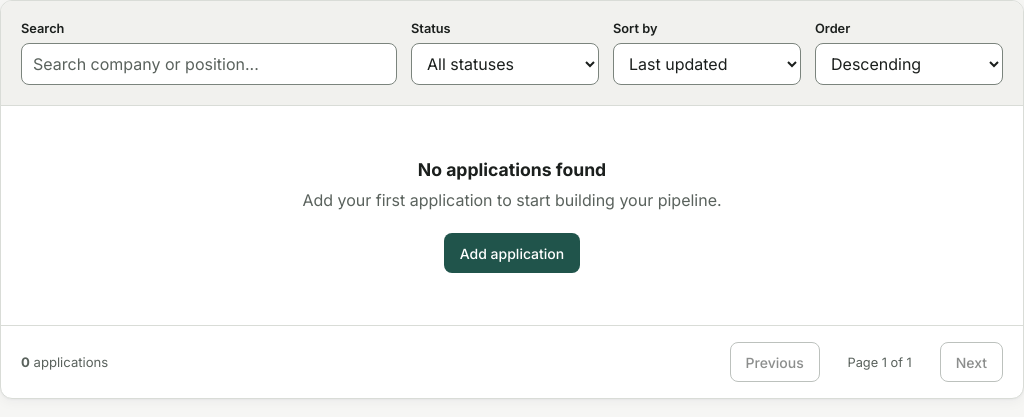
it: ApplicationsList preferences › preserves status, sort, and order selection behavior in light theme
Check: the heading "No applications found" is shown, box [418, 159, 606, 180]
Select "Rejected" in the dropdown labelled "Status" at (505, 64), box [411, 43, 599, 85]
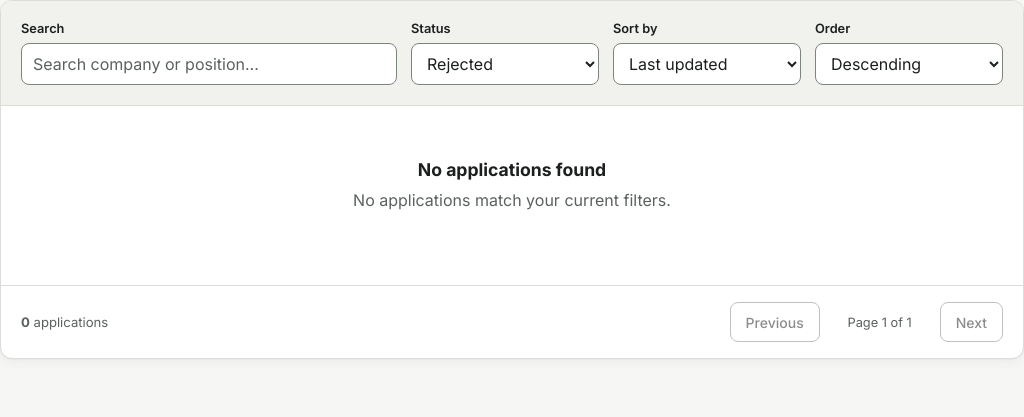
Select "Company" in the dropdown labelled "Sort by" at (707, 64), box [613, 43, 801, 85]
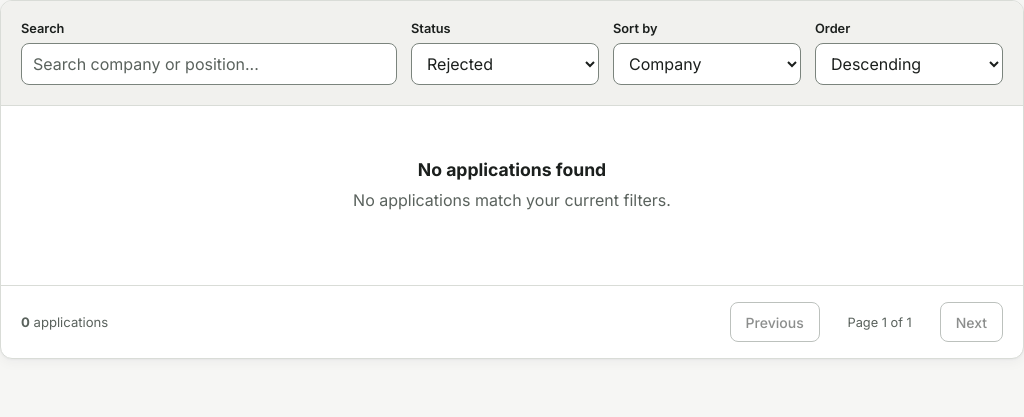
Select "Ascending" in the dropdown labelled "Order" at (909, 64), box [815, 43, 1003, 85]
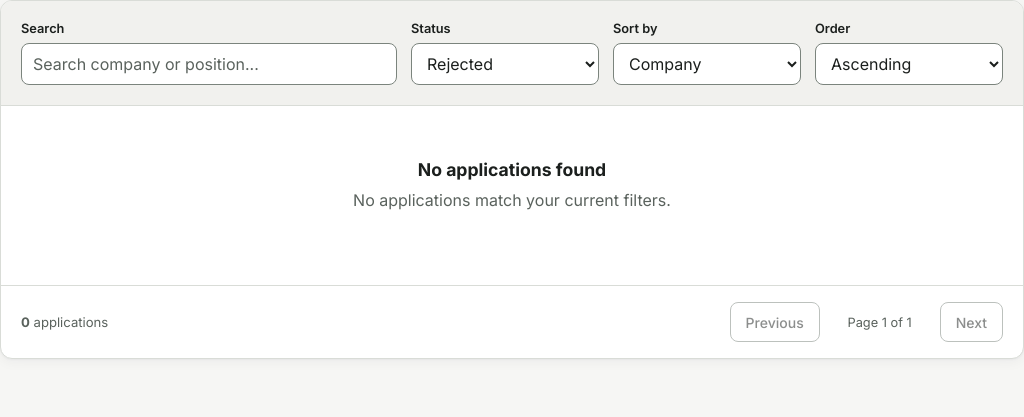
Check: the dropdown labelled "Status" shows "Rejected", box [411, 43, 599, 85]
Check: the dropdown labelled "Sort by" shows "Company", box [613, 43, 801, 85]
Check: the dropdown labelled "Order" shows "Ascending", box [815, 43, 1003, 85]
